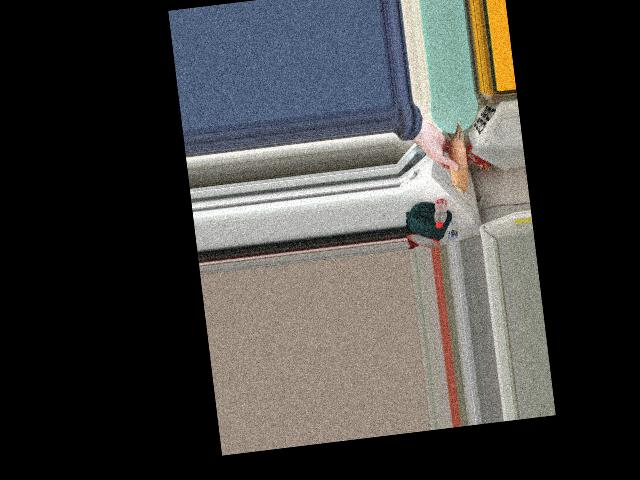sweet_potato: (440, 121, 471, 190)
